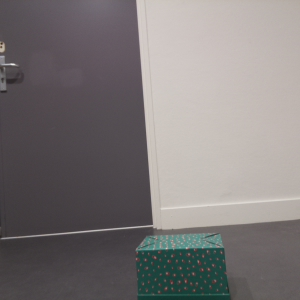small: (134, 231, 233, 300)
